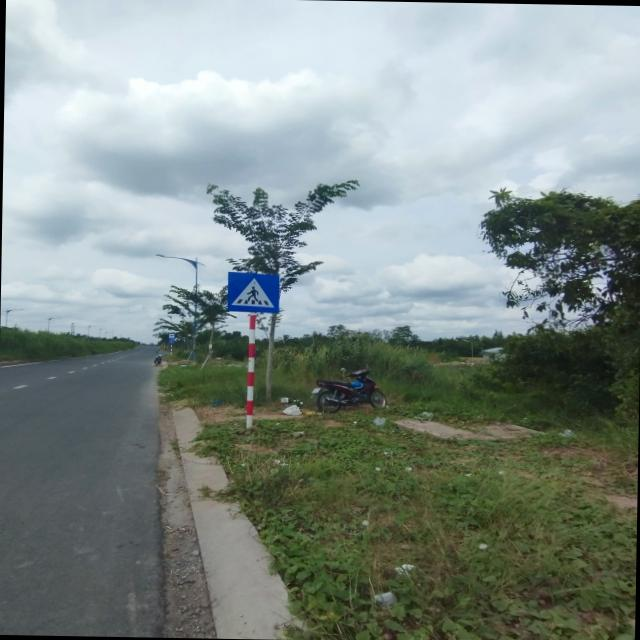Giao_Nhau_Duong_Uu_Tien: (227, 272, 280, 314)
